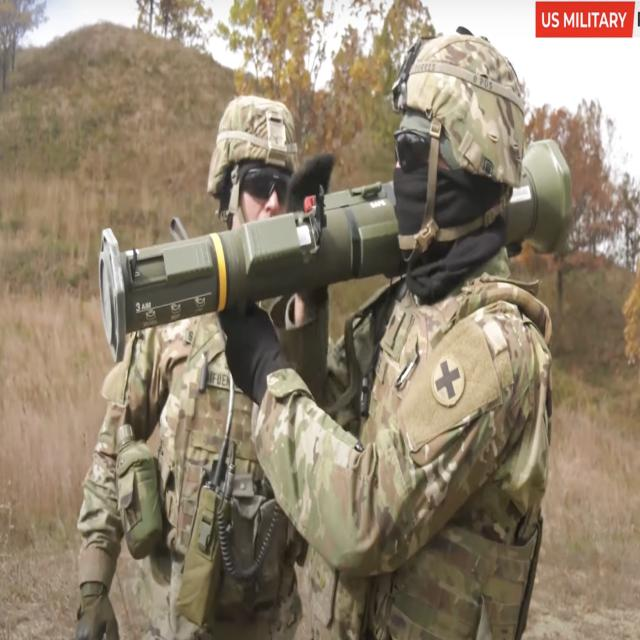bazooka: (91, 116, 582, 383)
